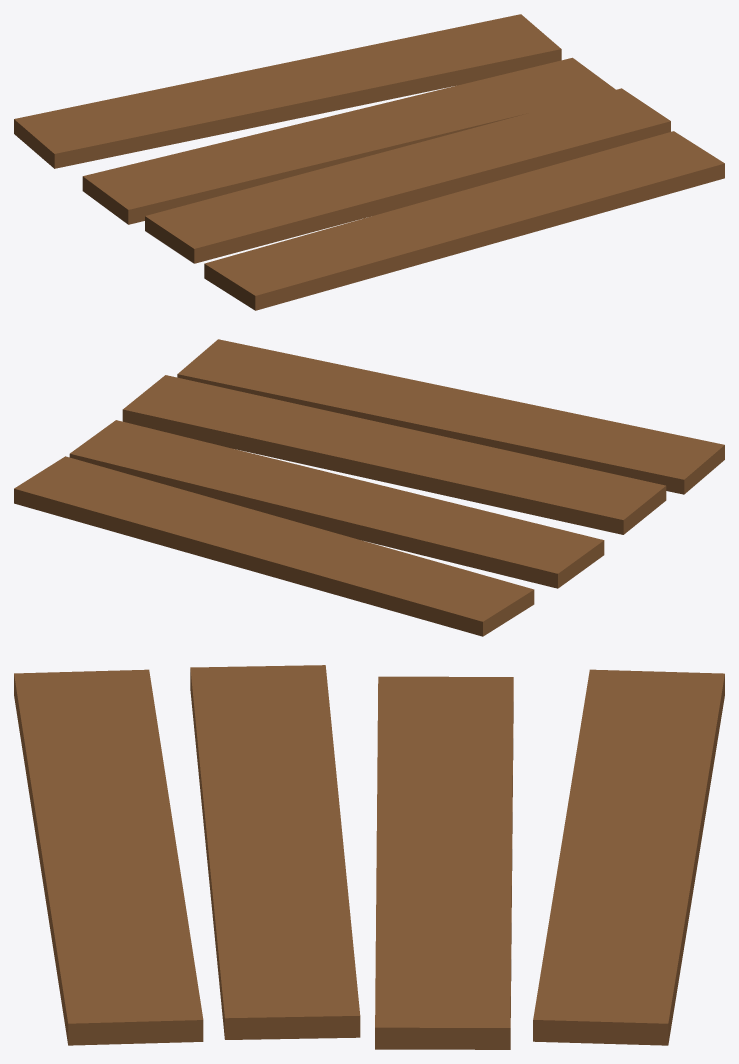
Rendered from jettiboard_05_a.fbx.
The picture shows the model from 3 angles, top to bottom: view 1: azimuth 30°, elevation 25°; view 2: azimuth 150°, elevation 25°; view 3: azimuth 270°, elevation 25°; orthographic projection. The views are drawn at different scales.
Parts seen in each view (by area): view 1: JettiBoard_05_a; view 2: JettiBoard_05_a; view 3: JettiBoard_05_a.
Boxes of the visible parts, <box> form: JettiBoard_05_a: <box>14,14,724,310</box>; JettiBoard_05_a: <box>14,339,724,636</box>; JettiBoard_05_a: <box>14,665,724,1049</box>.
Size of the model in its own units: 41.83 by 35.49 by 1.79.
